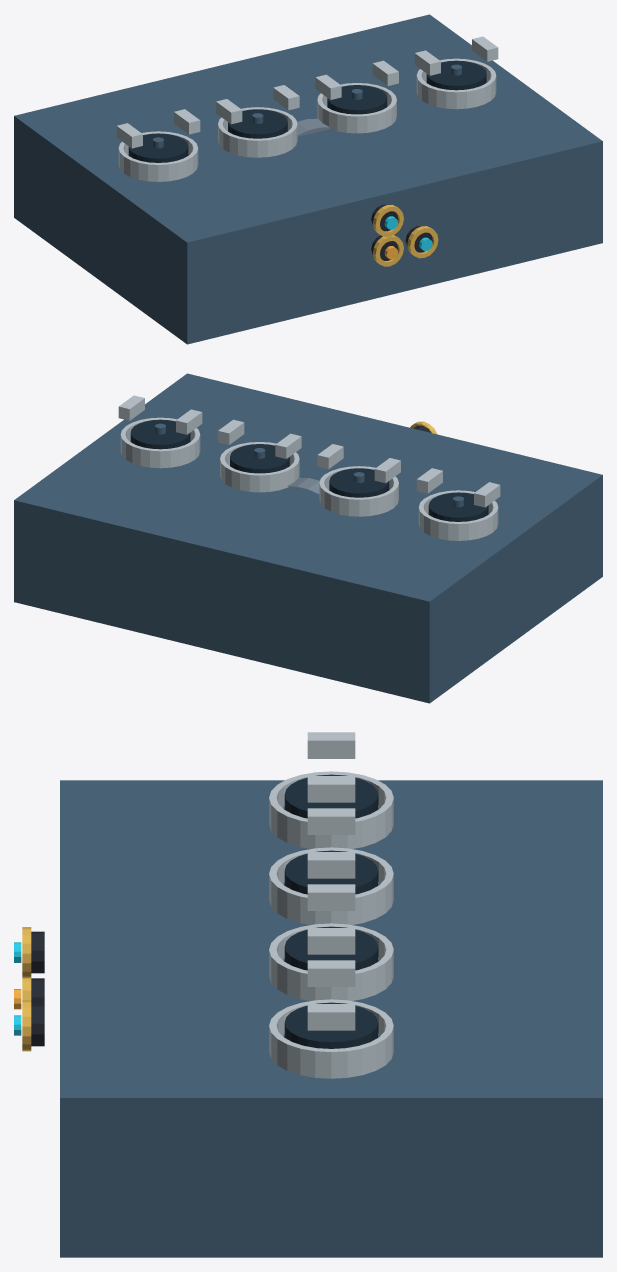
Rendered from 59_L82_ShieldedCoolingAirDuct.fbx.
The picture shows the model from 3 angles, top to bottom: view 1: azimuth 30°, elevation 25°; view 2: azimuth 150°, elevation 25°; view 3: azimuth 270°, elevation 25°; orthographic projection. The views are drawn at different scales.
Visible parts, largest first — view 1: ShieldedCoolingAirDuct; view 2: ShieldedCoolingAirDuct; view 3: ShieldedCoolingAirDuct.
Part boxes in pixels (x1=…): ShieldedCoolingAirDuct: x1=14, y1=14, x2=602, y2=344; ShieldedCoolingAirDuct: x1=14, y1=373, x2=602, y2=703; ShieldedCoolingAirDuct: x1=14, y1=732, x2=602, y2=1257.
Size of the model in its own units: 205 by 69.72 by 160.
